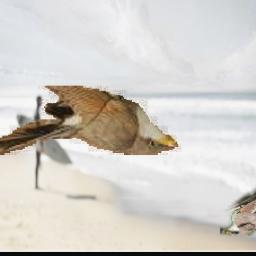Cuckoo: (0, 86, 182, 155), (221, 181, 256, 237)
